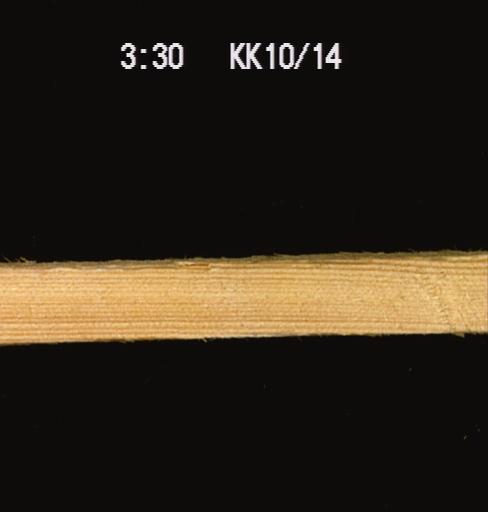wave: (12, 254, 181, 274)
